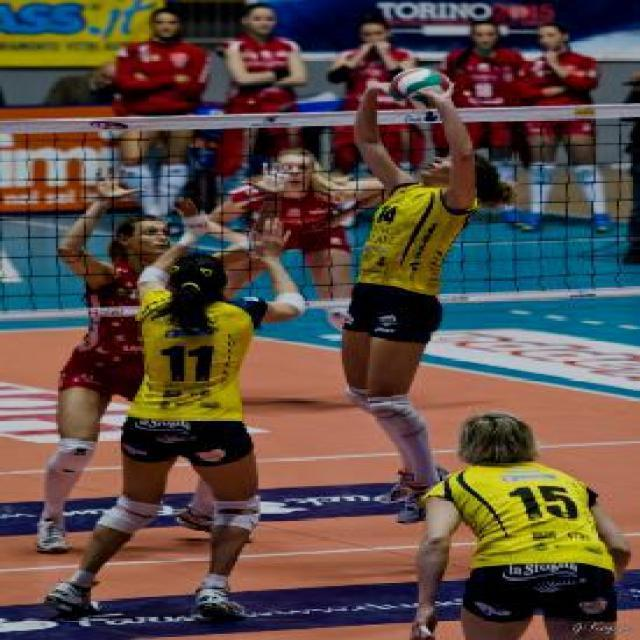volleyball: (391, 69, 451, 109)
